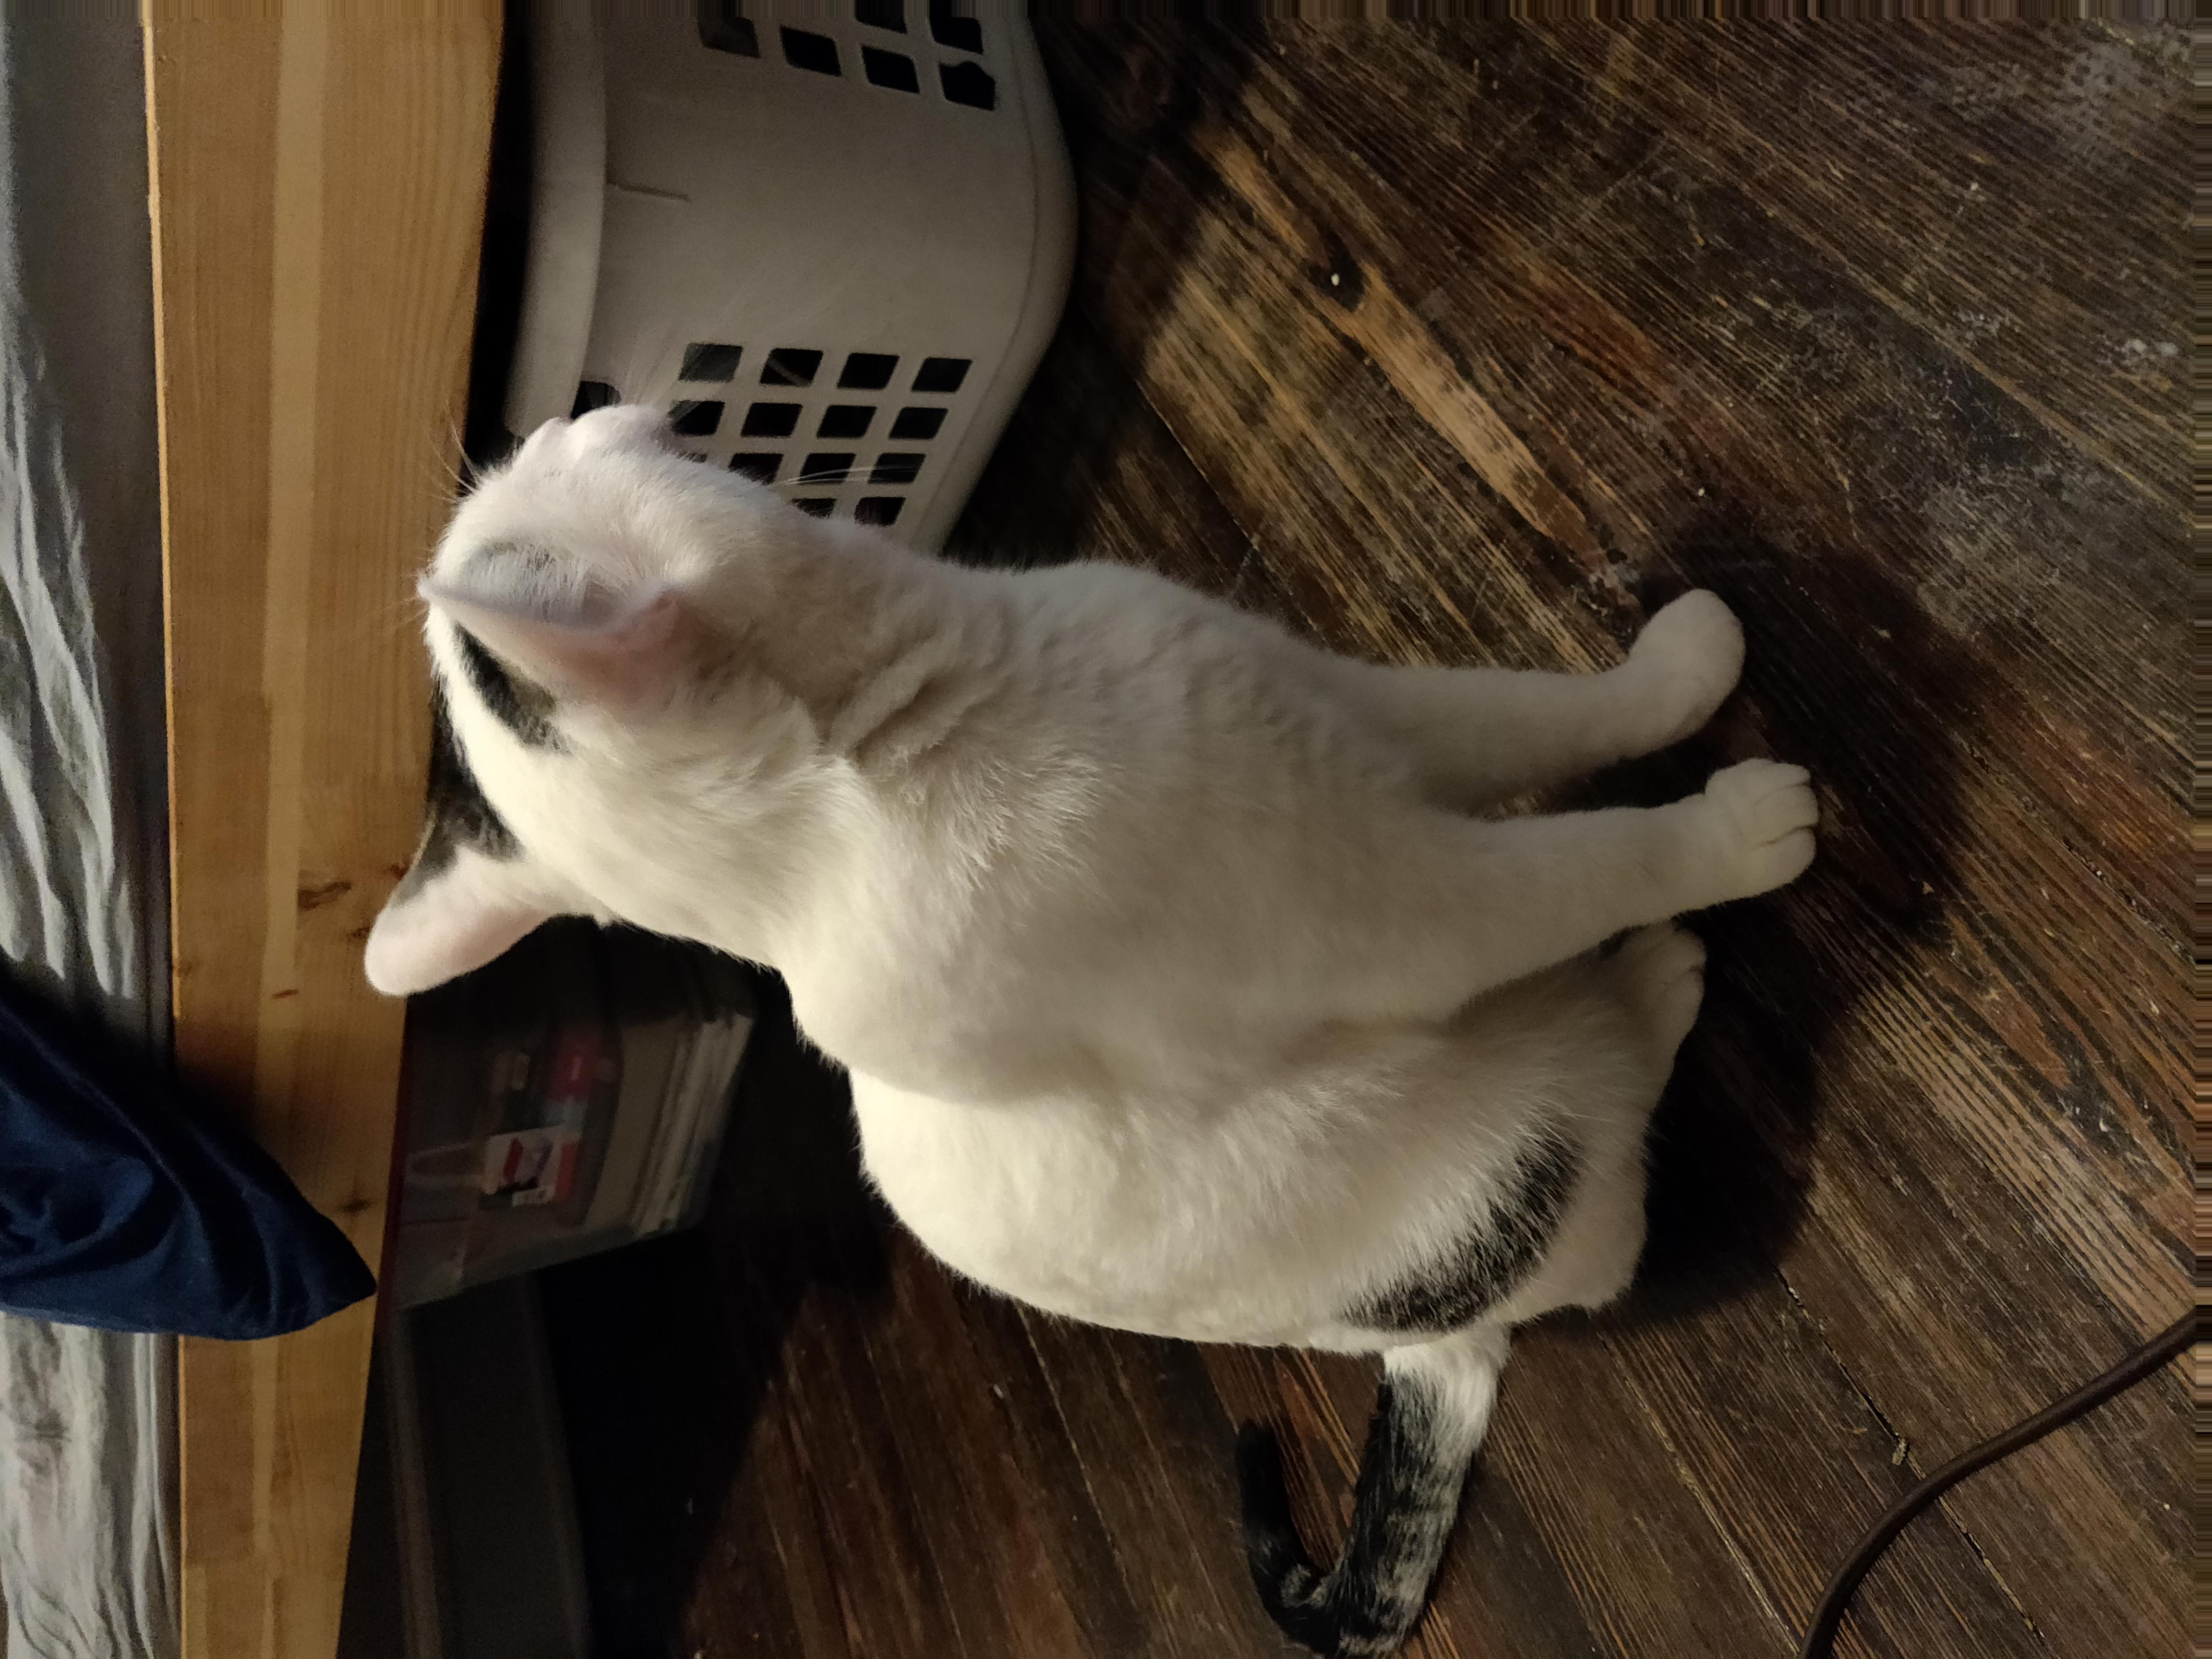cat: (366, 391, 1819, 1268)
